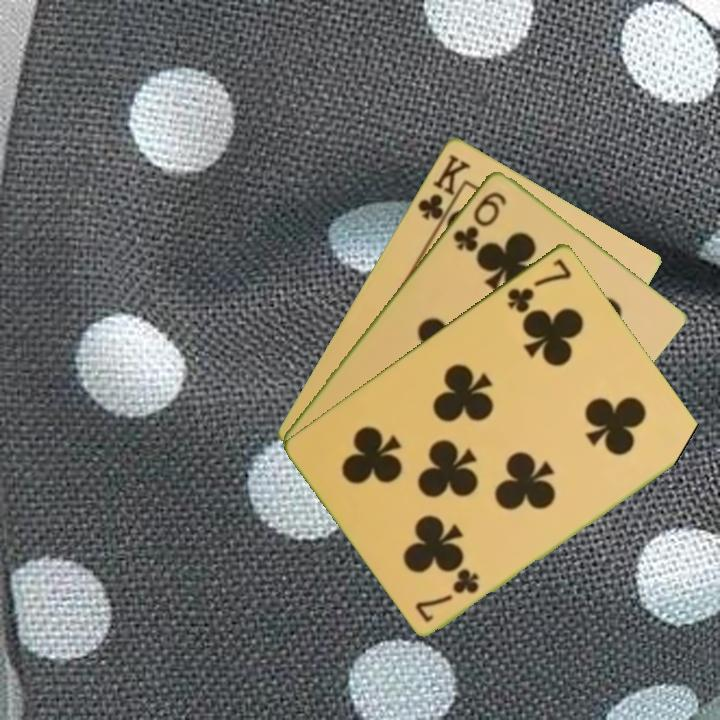6c: (449, 187, 510, 255)
7c: (503, 254, 575, 316), (412, 566, 483, 625)
Kc: (413, 150, 474, 232)
